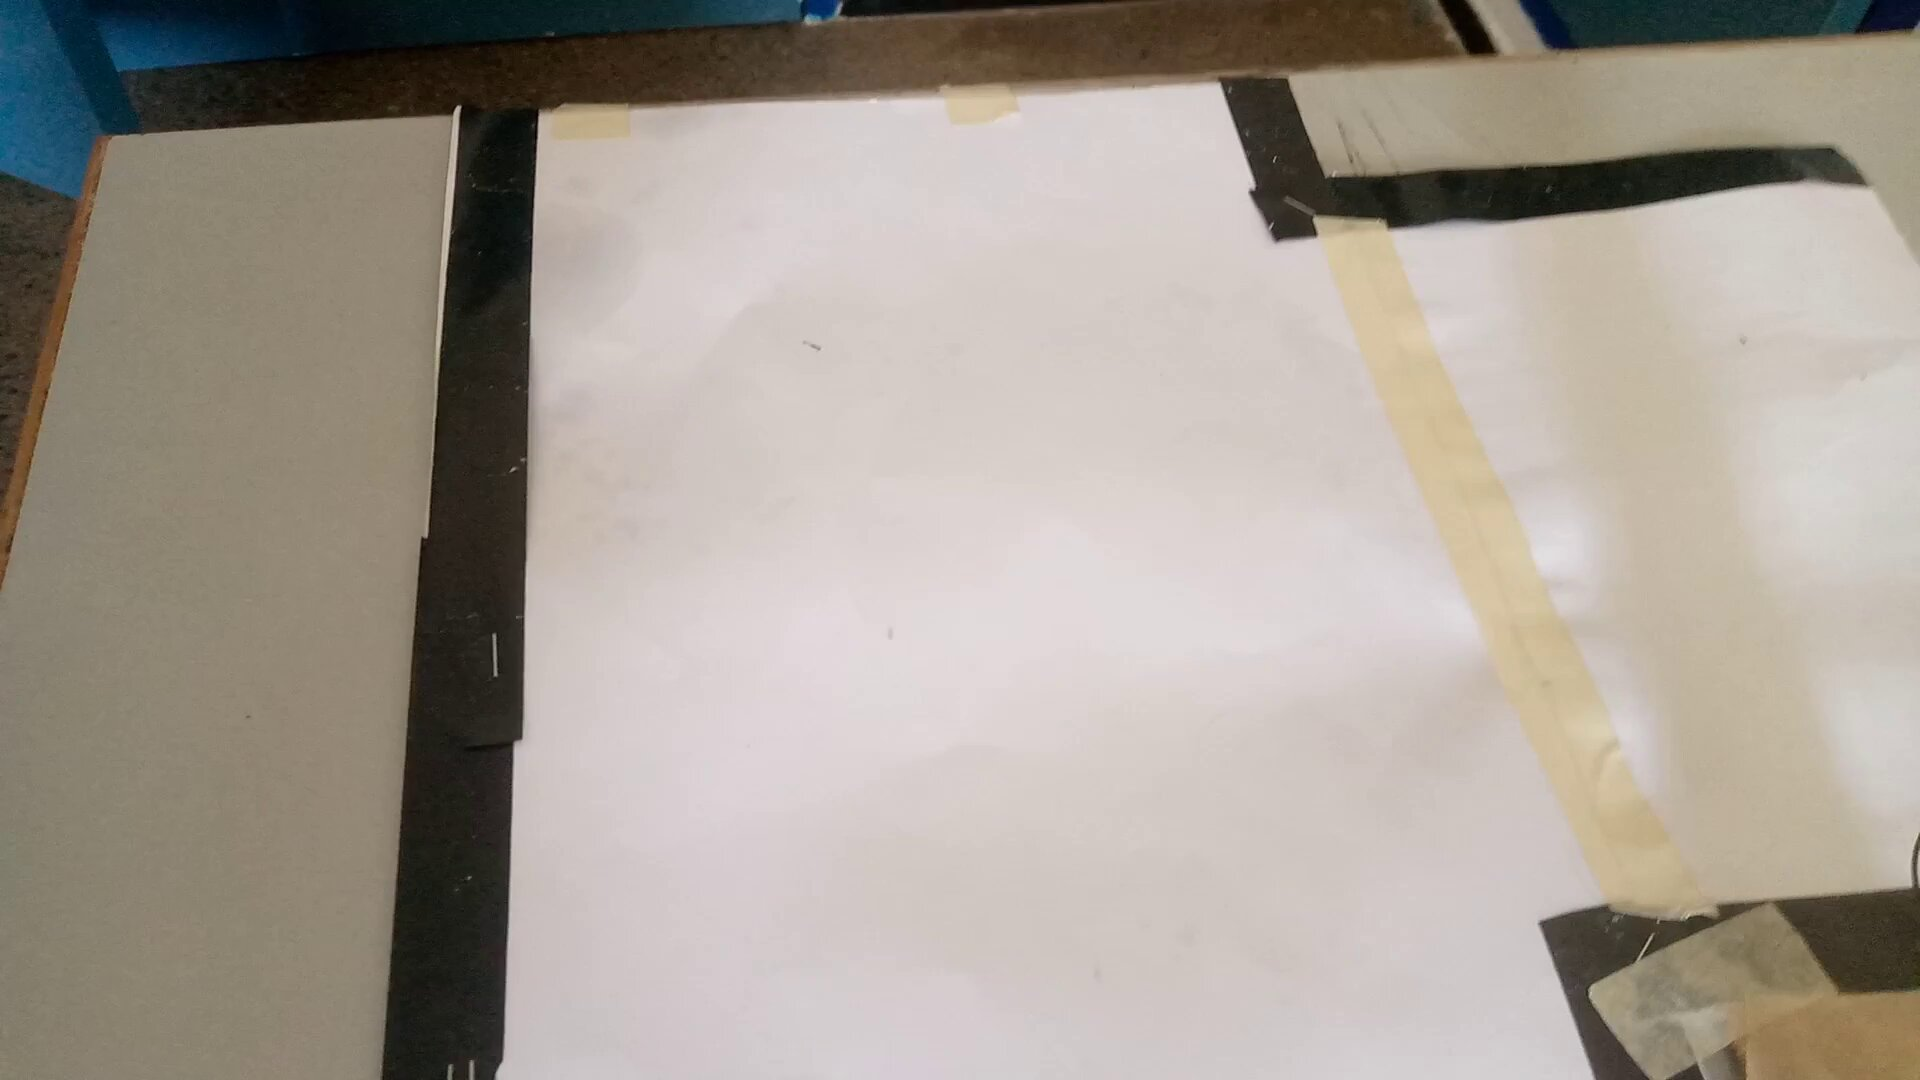right: (418, 103, 1749, 1031)
